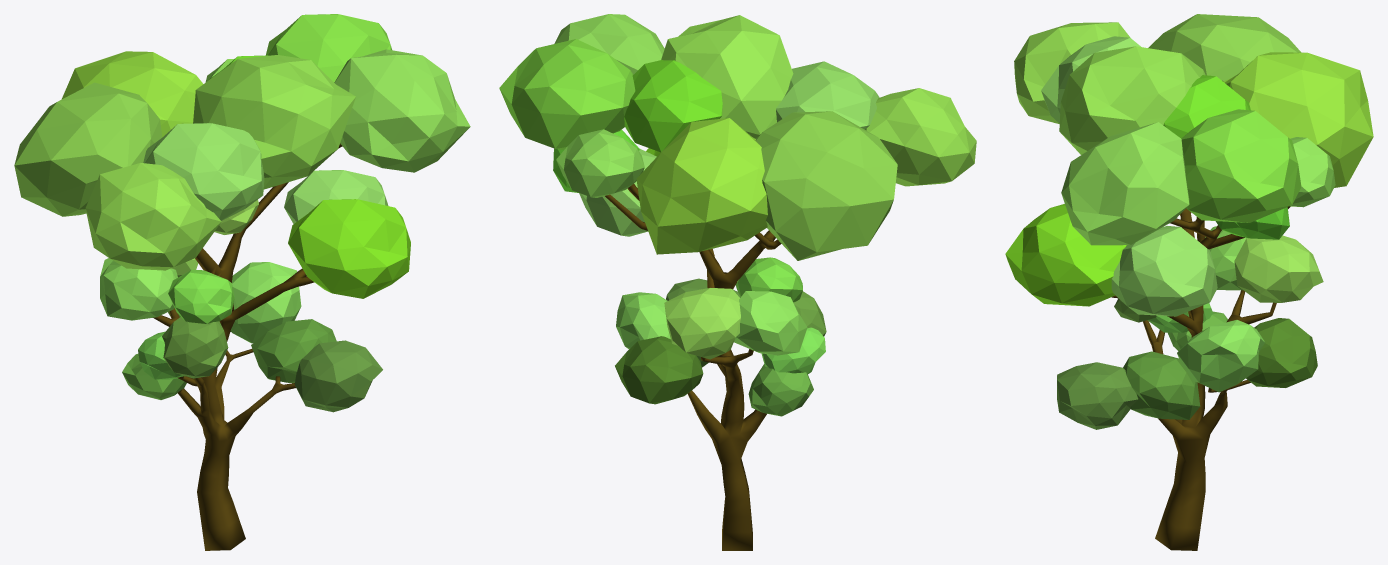
File: E_Tree3.fbx
The picture shows the model from 3 angles, left to right: view 1: azimuth 30°, elevation 25°; view 2: azimuth 150°, elevation 25°; view 3: azimuth 270°, elevation 25°; orthographic projection. The views are drawn at different scales.
Visible parts, largest first — view 1: Tree03; view 2: Tree03; view 3: Tree03.
Boxes of the visible parts, x1,y1,x2,y2 form: Tree03: (14,14,470,550); Tree03: (499,14,976,550); Tree03: (1005,14,1373,550).
Size of the model in its own units: 2404 by 2916 by 1909.
